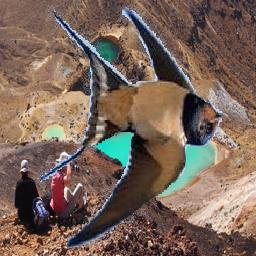Swallow: (36, 6, 222, 249)
